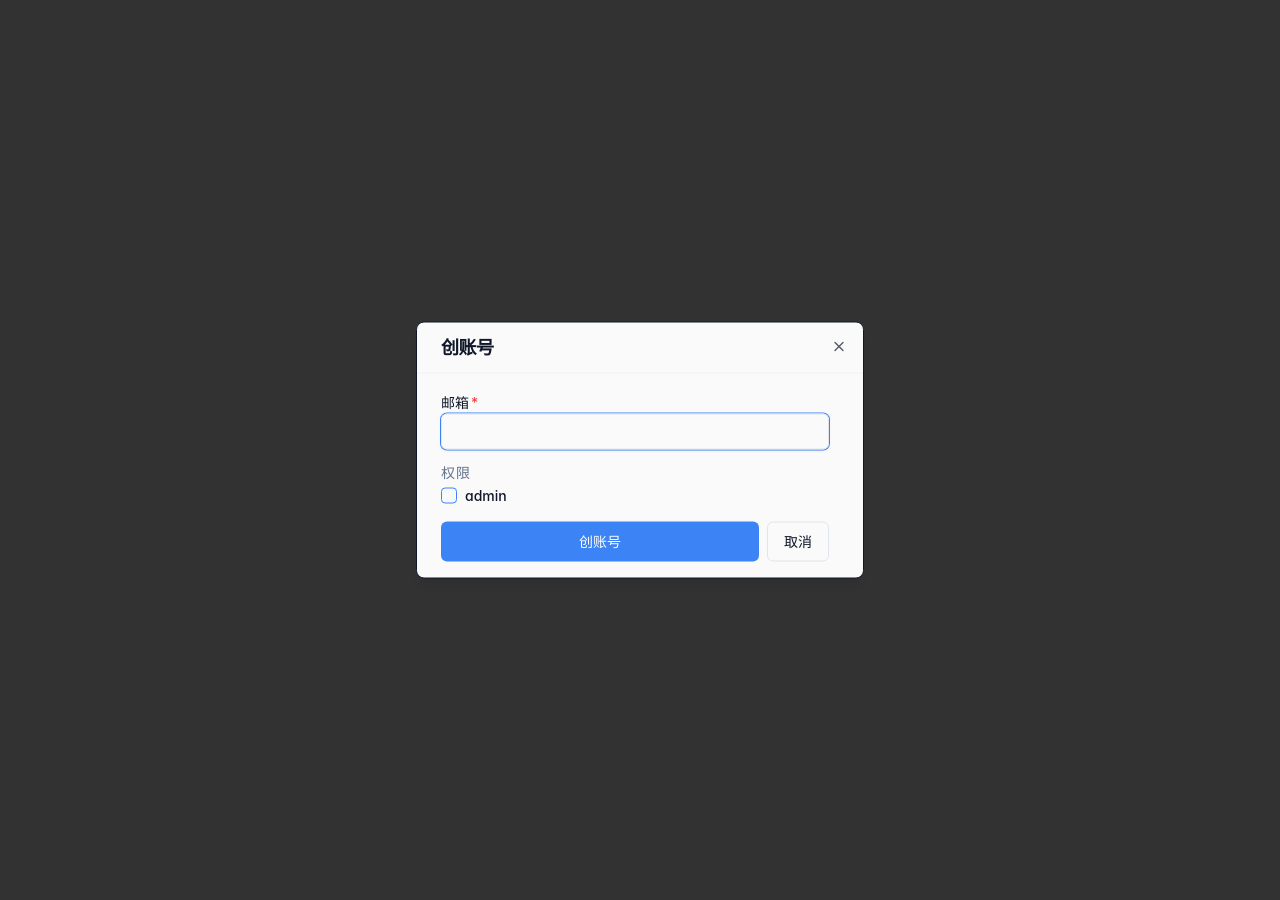
CreateInviteDialog › 提交 → 拿到 invite_url → 弹 '复制 URL'
Type "new@x.com" into the field with test id "email-input" at (635, 432), box [441, 414, 829, 450]
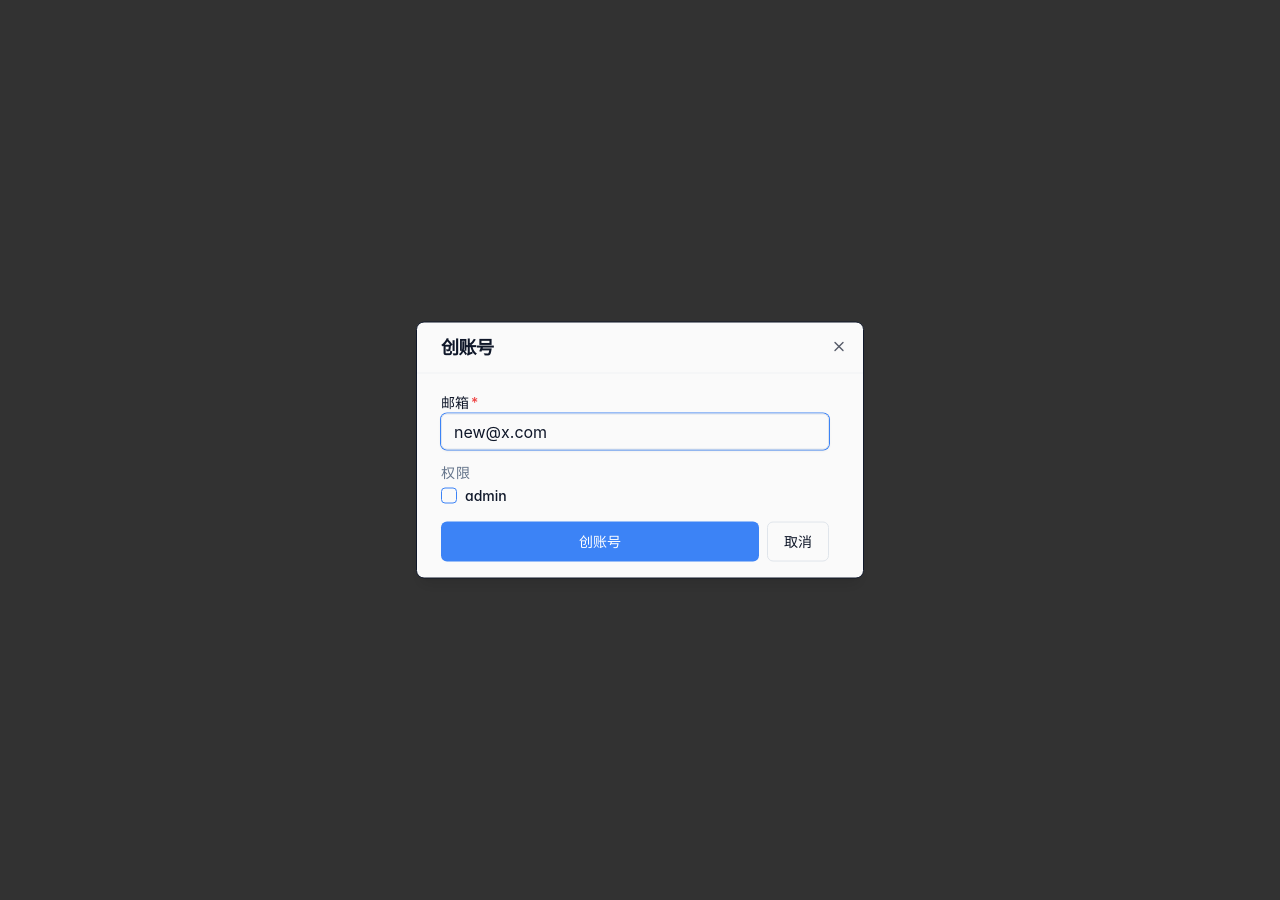
Click the button with test id "submit" at (600, 542), box [441, 522, 759, 562]
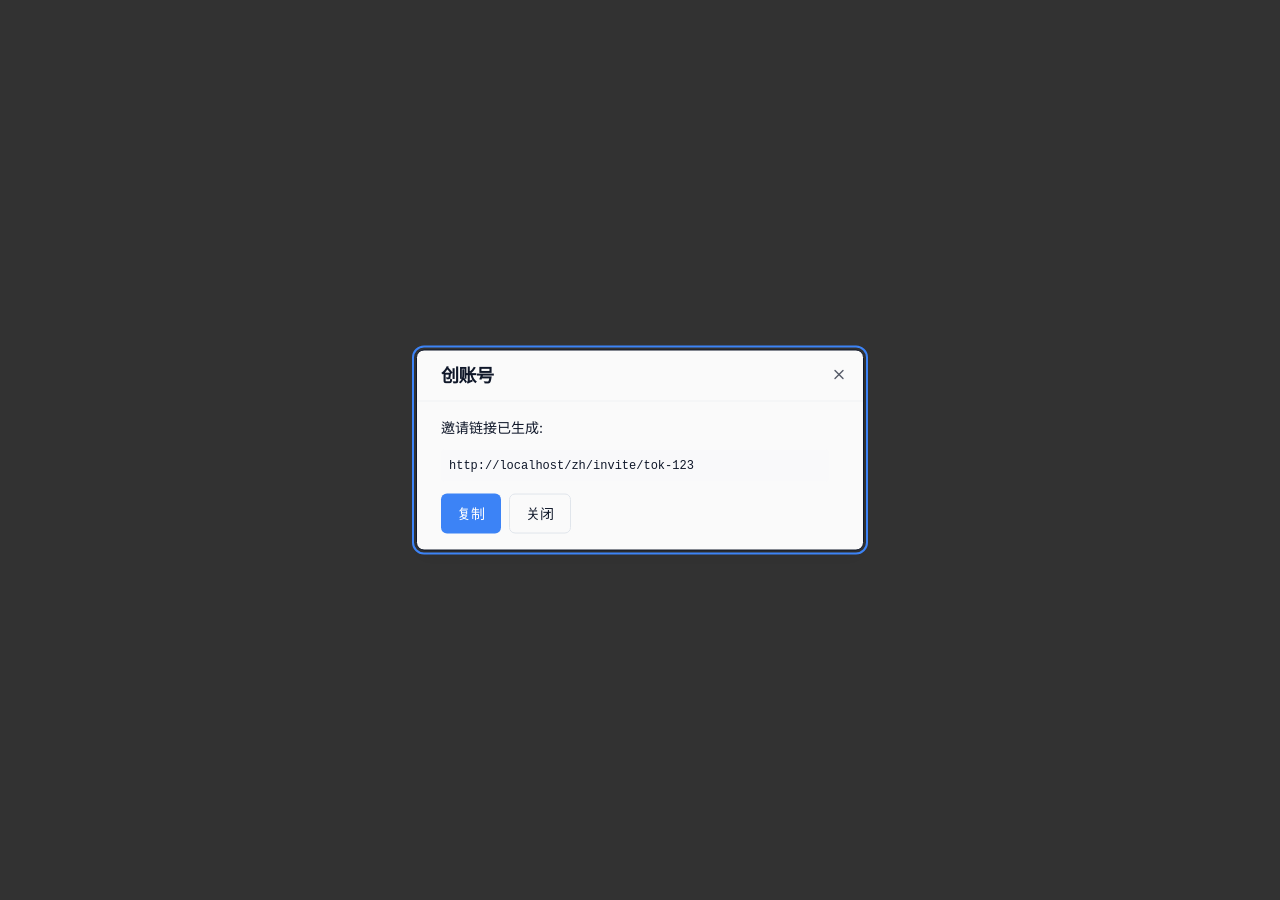
Now the text "http://localhost/zh/invite/tok-123" is shown, box [441, 450, 829, 482]
Now the button with test id "copy-url" is shown, box [441, 494, 501, 534]
